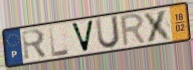L: (48, 25, 71, 59)
R: (119, 12, 148, 49), (20, 27, 48, 62)
U: (95, 14, 122, 51)
V: (70, 19, 96, 54)
X: (142, 8, 175, 44)
